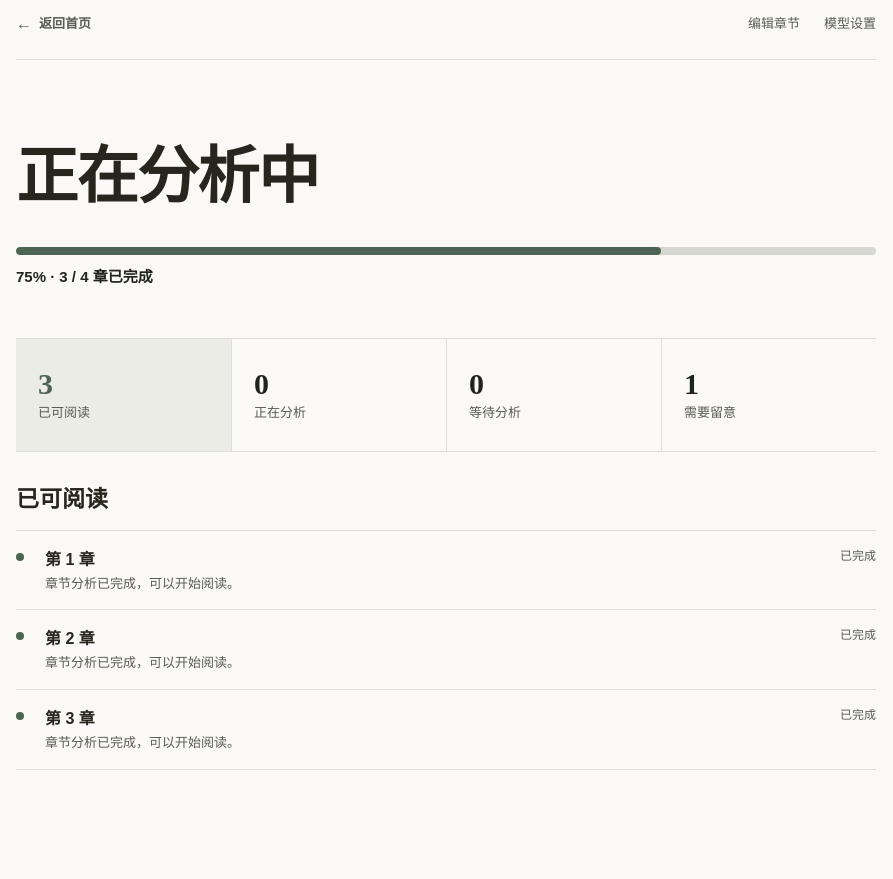
Test: releases retry controls when a task finishes before the first poll
Click the tab named "1需要留意". click: (768, 395)
box: [661,339,876,451]
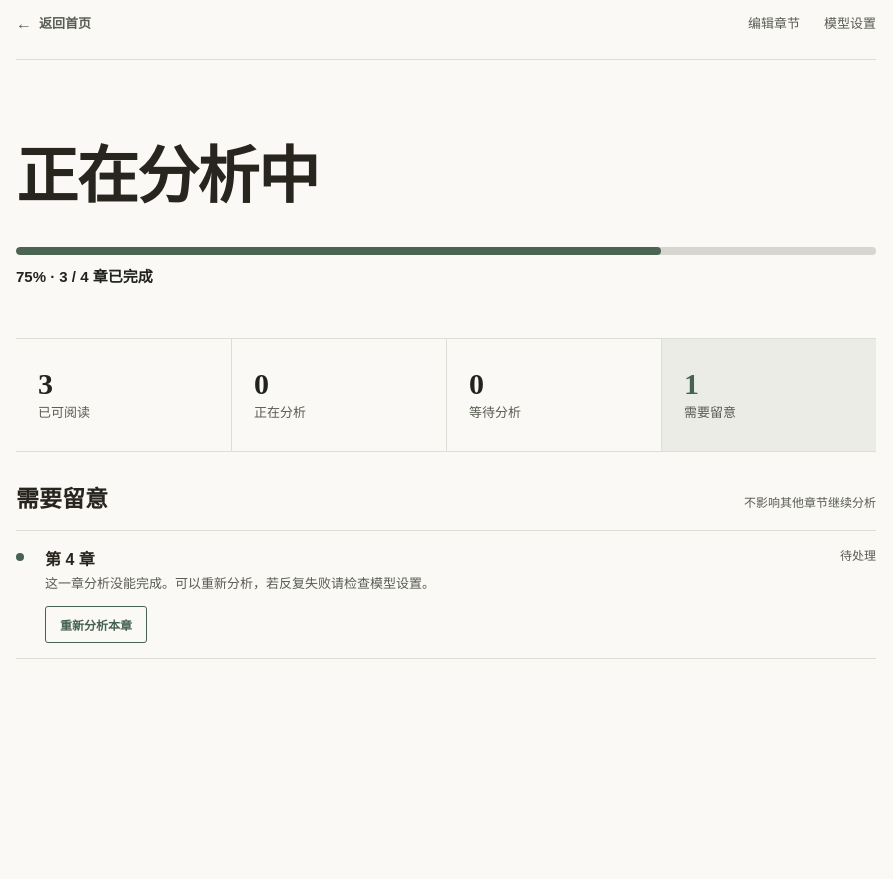
Click the button "重新分析本章". click: (96, 625)
box: [45,606,147,644]
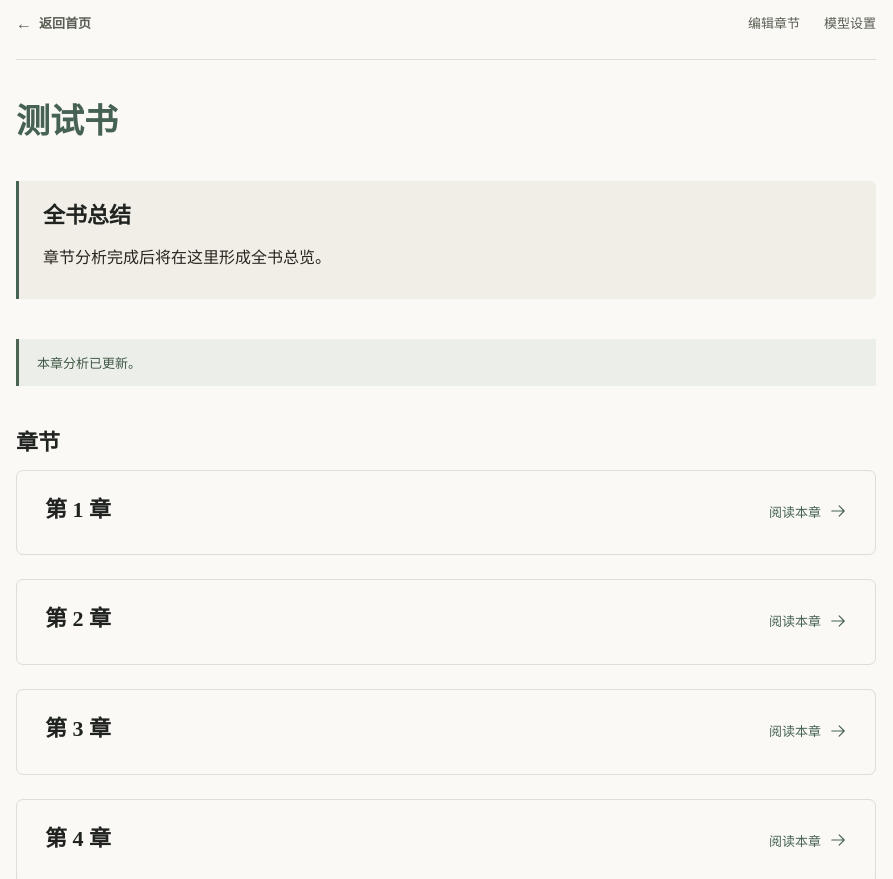
Now the message reads "本章分析已更新。", box [37,356,141,371]
